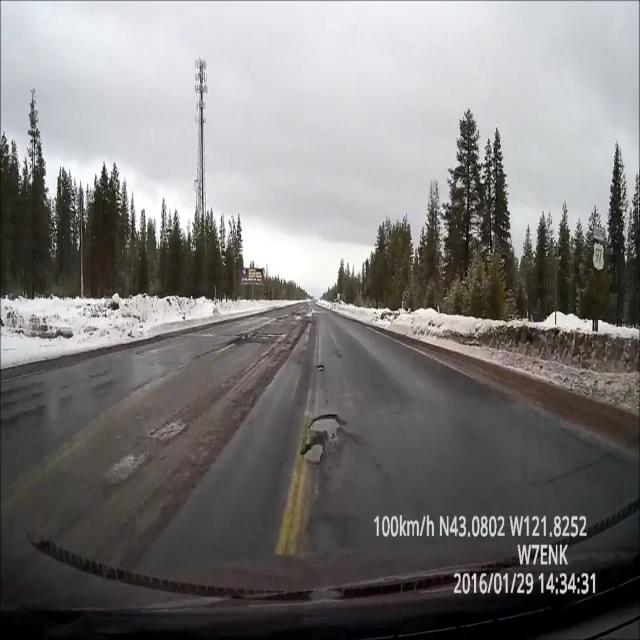Pothole: (299, 402, 349, 491)
